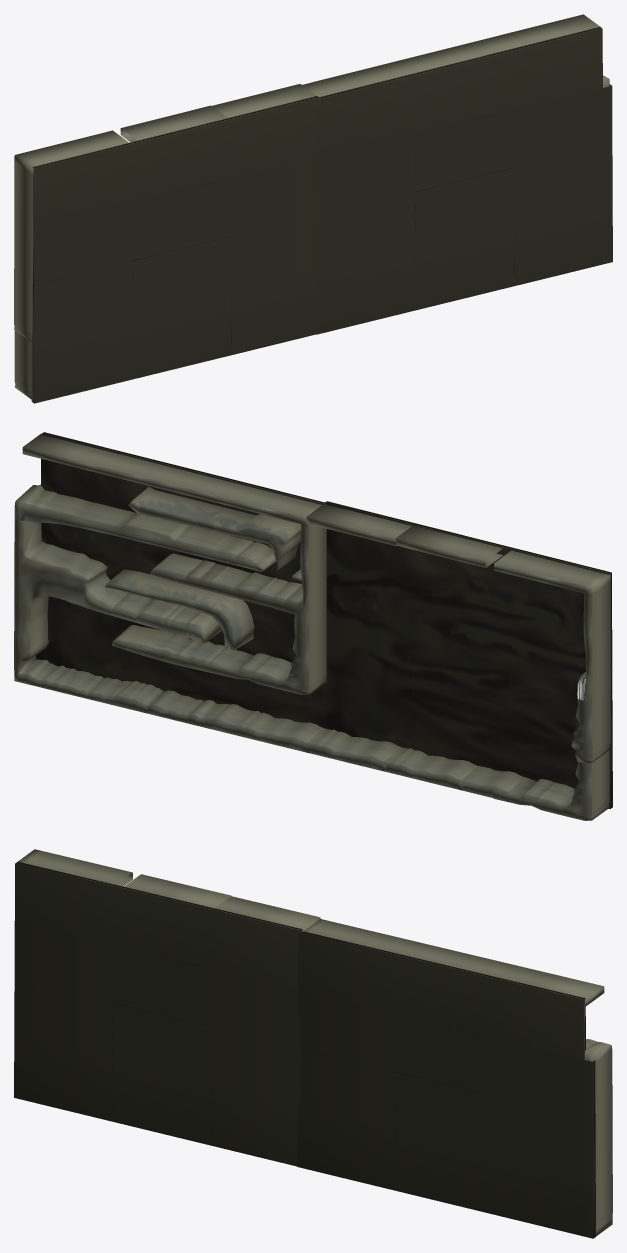
File: cave level map 3.fbx
3 renders of one model, top to bottom at view 1: azimuth 30°, elevation 25°; view 2: azimuth 150°, elevation 25°; view 3: azimuth 330°, elevation 25°, orthographic.
Visible parts, largest first — view 1: S1P10, S1P10.001, part4.020, part4.025, part4.008, part4.007, part4.005, part4.019, part4.021, part4.024, part4.022; view 2: S1P10.001, S1P10, part4.010, first split, part4.014, part4.002, part4.015, second split, part4.022, part4.020, part4.007, part4.004 (+16 smaller); view 3: S1P10, S1P10.001, part4.010, part4.020, part4.005, part4.008, part4.007, part4.025, part4.019, part4.015, part4.004.
Boxes of the visible parts, x1,y1,x2,y2 form: S1P10: (317,27,612,334); S1P10.001: (31,96,320,403); part4.020: (14,130,129,225); part4.025: (120,105,227,142); part4.008: (396,37,509,73); part4.007: (302,61,412,97); part4.005: (493,14,601,49); part4.019: (212,84,316,117); part4.021: (14,212,33,283); part4.024: (14,269,32,342); part4.022: (14,327,31,399); S1P10.001: (323,501,612,808); S1P10: (36,432,327,728); part4.010: (14,519,128,623); first split: (128,487,300,570); part4.014: (210,622,326,694); part4.002: (211,563,326,634); part4.015: (14,611,131,705); second split: (104,569,254,650); part4.022: (493,747,609,820); part4.020: (494,550,610,645); part4.007: (210,481,326,575); part4.004: (14,484,129,535); S1P10: (297,931,595,1238); S1P10.001: (14,861,302,1166); part4.010: (595,1062,612,1174); part4.020: (18,849,132,886); part4.005: (497,965,604,1006); part4.008: (400,941,513,976); part4.007: (304,919,415,953); part4.025: (124,874,231,908); part4.019: (215,896,320,931); part4.015: (595,1163,612,1236); part4.004: (584,1039,612,1073).
Size of the model in its own units: 2578 by 1009 by 158.
